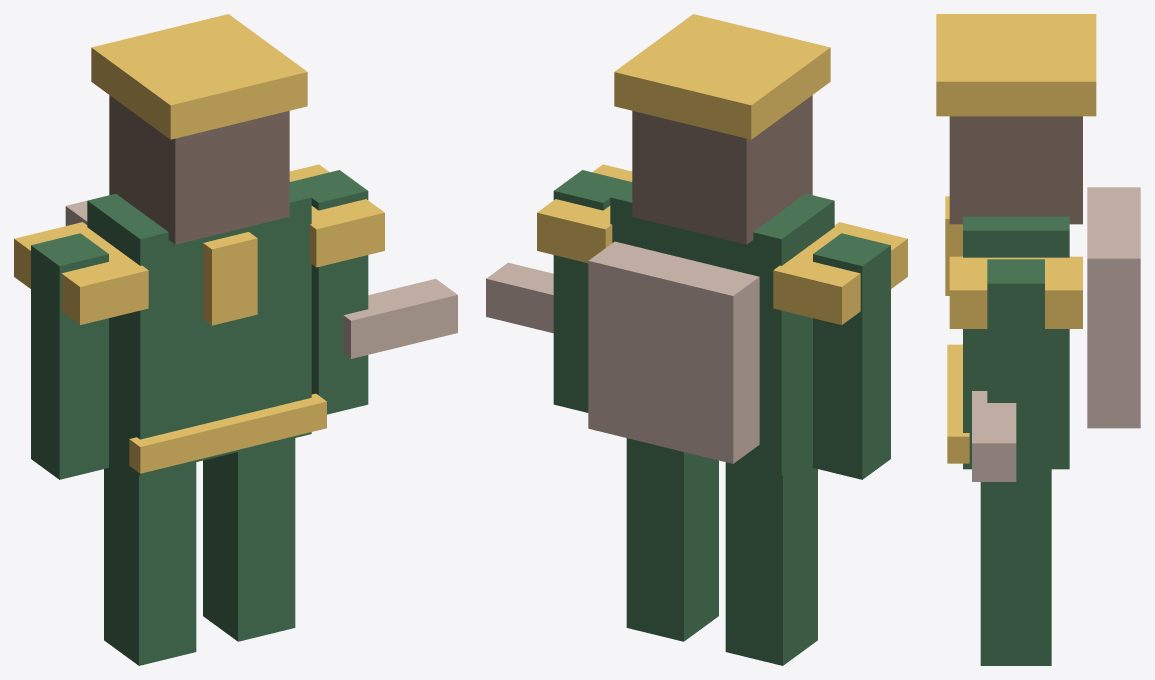
Rendered from 04_luma_deepwell_warden_of_summit.glb.
3 renders of one model, left to right at view 1: azimuth 30°, elevation 25°; view 2: azimuth 150°, elevation 25°; view 3: azimuth 270°, elevation 25°, orthographic.
Parts seen in each view (by area): view 1: Luma Deepwell, Warden of Summit; view 2: Luma Deepwell, Warden of Summit; view 3: Luma Deepwell, Warden of Summit.
Boxes of the visible parts, left/top/right/bottom form: Luma Deepwell, Warden of Summit: left=14, top=14, right=457, bottom=665; Luma Deepwell, Warden of Summit: left=486, top=14, right=907, bottom=665; Luma Deepwell, Warden of Summit: left=936, top=14, right=1140, bottom=665.
Bounding box in the file's own units: 0.9945 × 1.4 × 0.4463.
